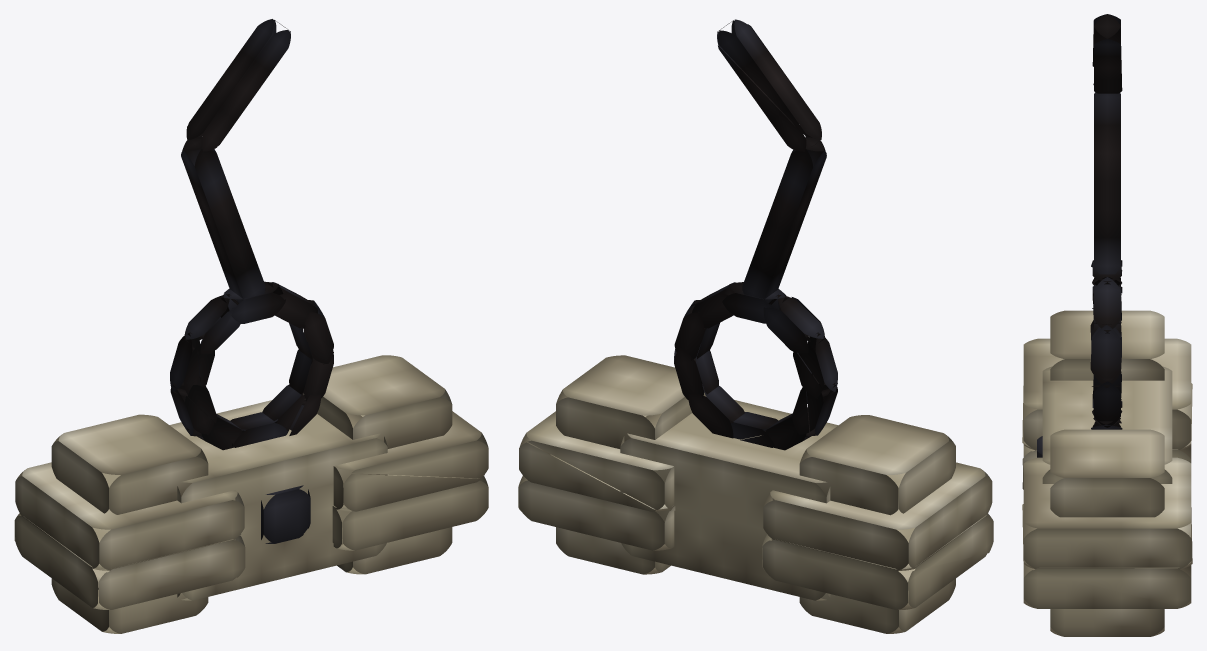
The model's file is knucklebone_charm.obj.
3 views of the same model, side by side, from view 1: azimuth 30°, elevation 25°; view 2: azimuth 150°, elevation 25°; view 3: azimuth 270°, elevation 25° (orthographic).
Visible parts, largest first — view 1: lit; view 2: lit; view 3: lit.
Part boxes in pixels (x1,y1,x2,y2): lit: [14, 19, 488, 633]; lit: [518, 19, 993, 633]; lit: [1022, 14, 1192, 636].
Size of the model in its own units: 0.5218 by 0.7003 by 0.1968.
